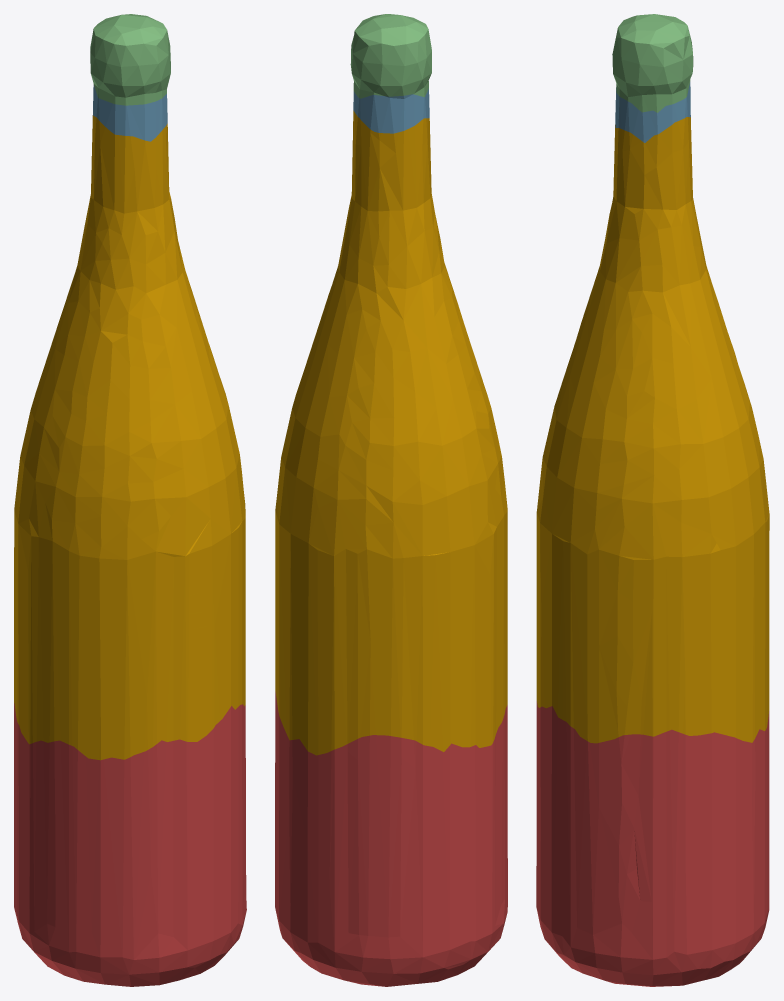
The model's file is fractured_18_4pcs.glb.
3 views of the same model, side by side, from view 1: azimuth 30°, elevation 25°; view 2: azimuth 150°, elevation 25°; view 3: azimuth 270°, elevation 25° (orthographic).
Visible parts, largest first — view 1: piece_0.obj, piece_1.obj, piece_3.obj, piece_2.obj; view 2: piece_0.obj, piece_1.obj, piece_3.obj, piece_2.obj; view 3: piece_0.obj, piece_1.obj, piece_3.obj, piece_2.obj.
Boxes of the visible parts, x1,y1,x2,y2 form: piece_0.obj: (14,115,245,760); piece_1.obj: (14,703,246,986); piece_3.obj: (90,14,170,105); piece_2.obj: (93,85,167,141); piece_0.obj: (275,110,507,755); piece_1.obj: (275,692,507,986); piece_3.obj: (350,14,431,98); piece_2.obj: (353,88,429,133); piece_0.obj: (536,117,769,743); piece_1.obj: (536,701,769,986); piece_3.obj: (612,14,693,112); piece_2.obj: (615,82,690,142).
Bounding box in the file's own units: 0.2268 × 1 × 0.227.
